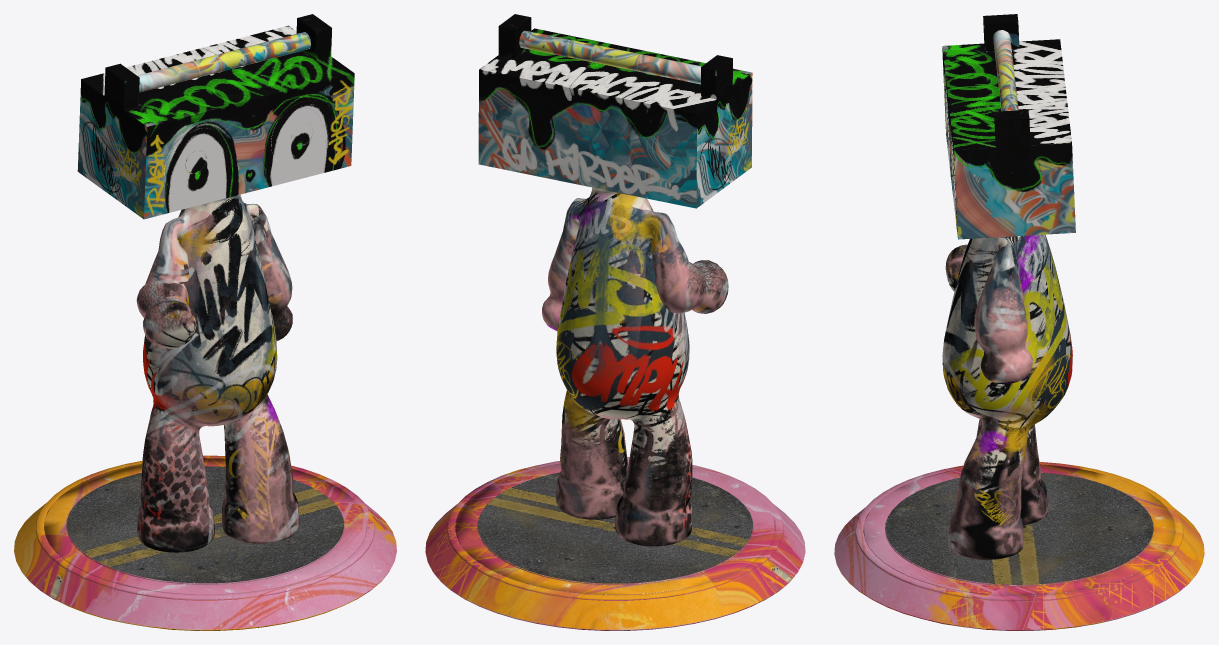
3 renders of one model, left to right at view 1: azimuth 30°, elevation 25°; view 2: azimuth 150°, elevation 25°; view 3: azimuth 270°, elevation 25°, orthographic. The views are drawn at different scales.
Visible parts, largest first — view 1: BBody; view 2: BBody; view 3: BBody.
Boxes of the visible parts, x1,y1,x2,y2 form: BBody: (14,14,396,630); BBody: (425,14,805,630); BBody: (834,14,1204,630).
Bounding box in the file's own units: 1.45 × 2.12 × 1.45.
4 materials, 4 textured.
